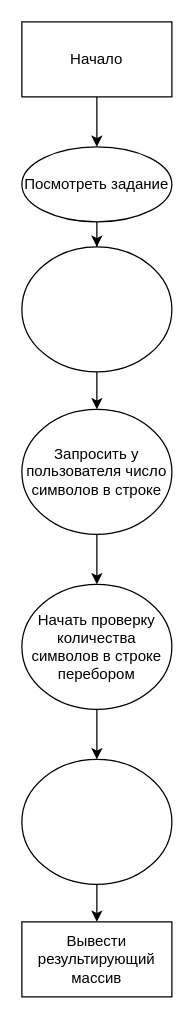
The diagram is 194 pixels wide and 1019 high, and some of its shapes have lost their labels. The shapes that lost their labels are listed below. From the top down, each one's centre as x and y in pixels, then its label:
At point (96, 309): "Создать массив, заполнить случайными строками".
At point (96, 821): "Заполнить новый массив".
